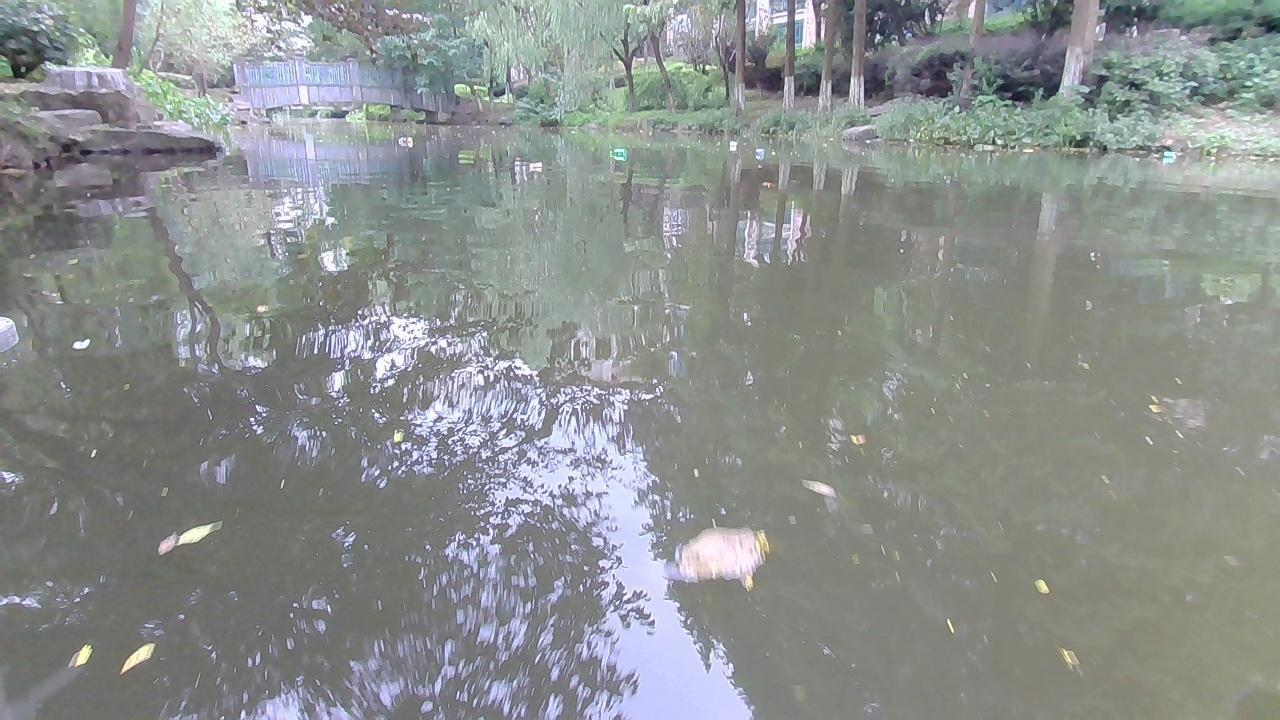bottle: (393, 131, 409, 144), (609, 145, 626, 157), (1161, 150, 1178, 160), (526, 157, 541, 168), (753, 147, 764, 158), (726, 138, 735, 148)
